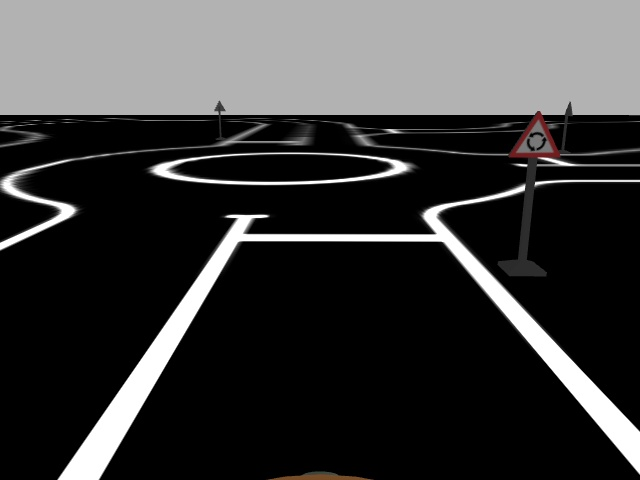roundabout: (506, 109, 562, 157)
